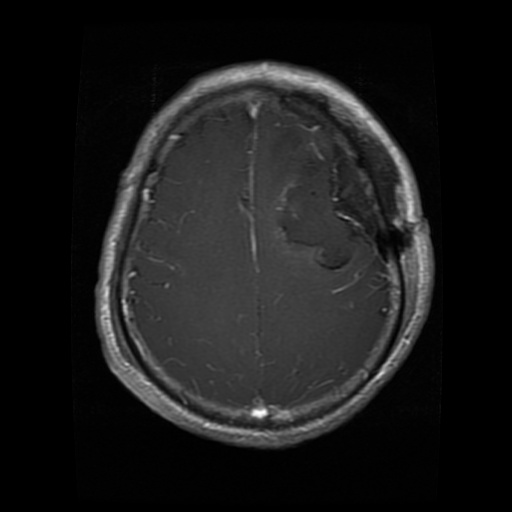glioma: (280, 140, 380, 268)
